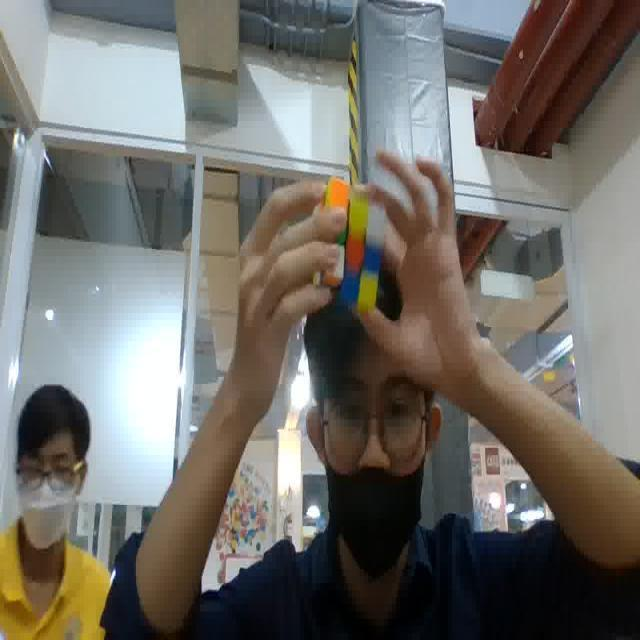Rub: (310, 173, 386, 306)
